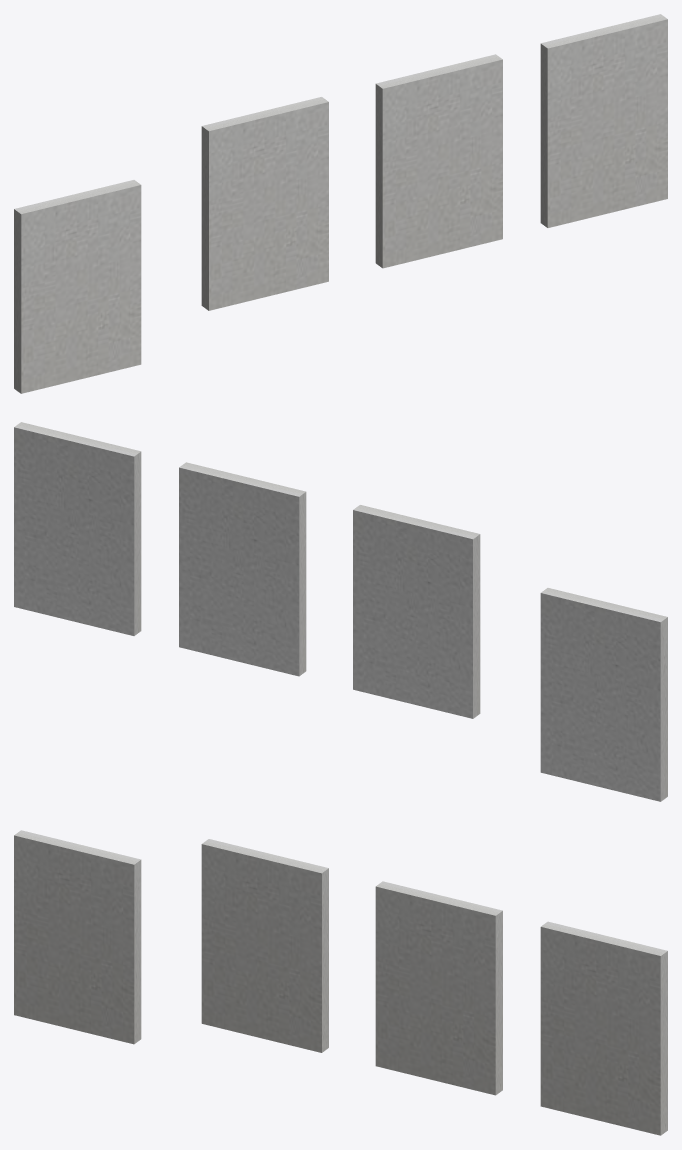
The model's file is espejos.obj.
3 renders of one model, top to bottom at view 1: azimuth 30°, elevation 25°; view 2: azimuth 150°, elevation 25°; view 3: azimuth 330°, elevation 25°, orthographic.
Parts seen in each view (by area): view 1: Cristal5; view 2: Cristal5; view 3: Cristal5.
Part boxes in pixels (left/top/right/bottom): Cristal5: left=14, top=14, right=667, bottom=393; Cristal5: left=14, top=422, right=667, bottom=801; Cristal5: left=14, top=830, right=667, bottom=1135.
Size of the model in its own units: 13.24 by 4.24 by 0.2544.
4 materials, 4 textured.
